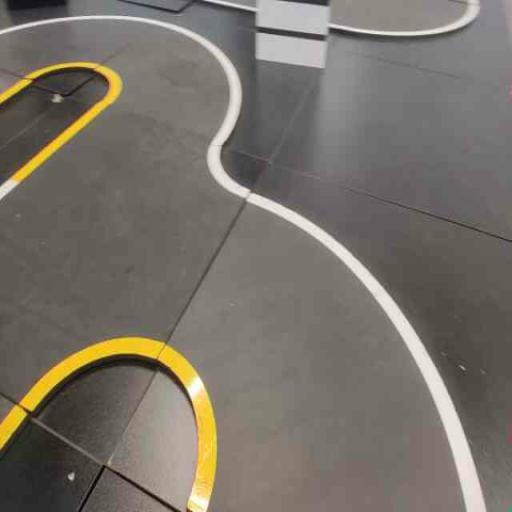left: (104, 163, 511, 511)
